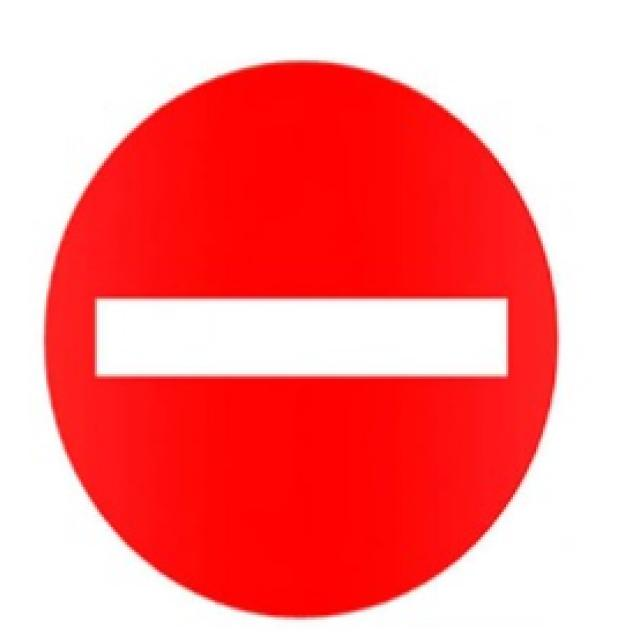Bien bao cam di nguoc chieu: (33, 29, 587, 636)
